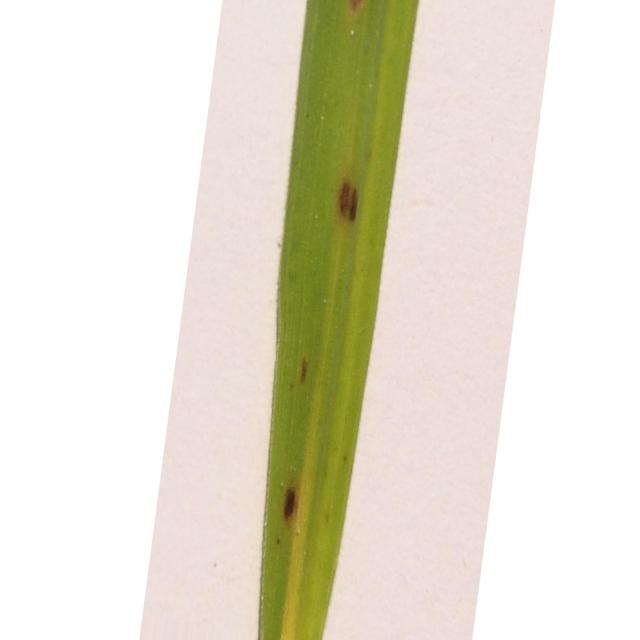Brown_Spot: (338, 180, 359, 222), (285, 486, 295, 517), (300, 358, 309, 384), (349, 0, 362, 13), (411, 11, 415, 28)
